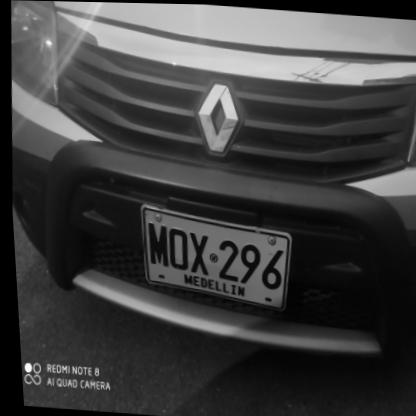placa: (128, 200, 295, 311)
